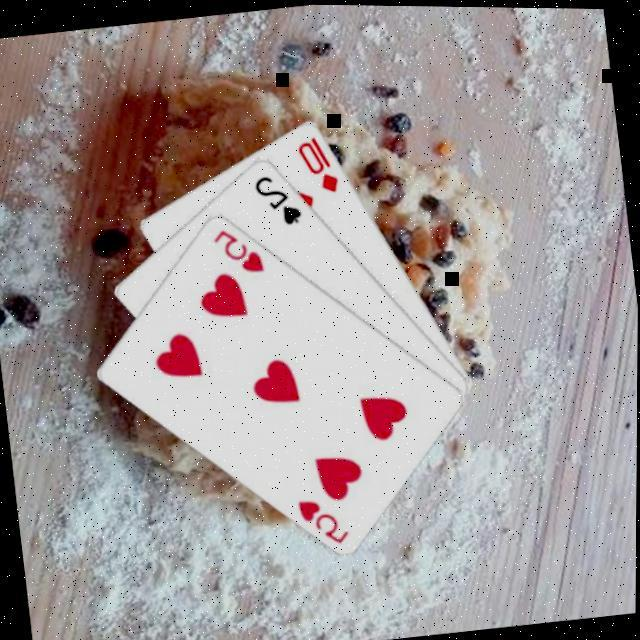10D: (296, 128, 344, 198)
2S: (251, 166, 308, 232)
5H: (295, 490, 355, 550), (210, 220, 270, 279)
